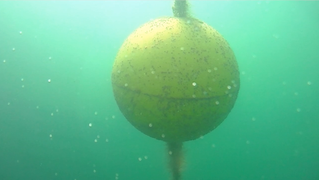buoy: (110, 16, 241, 144)
